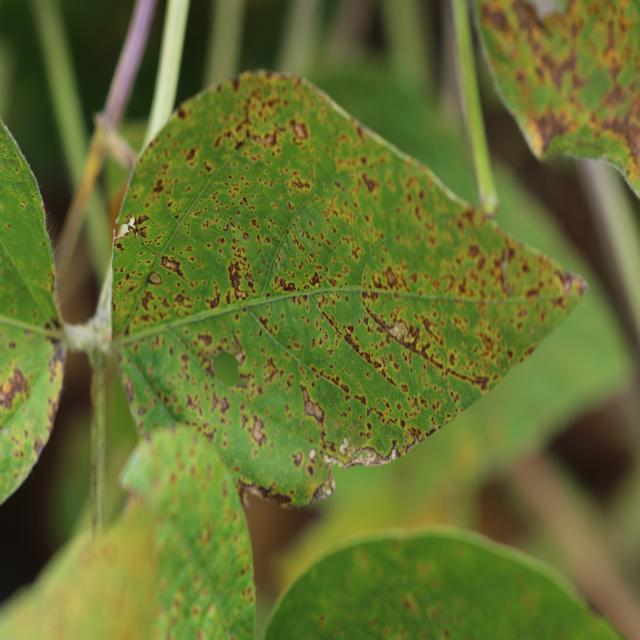Bacterial_Blight: (0, 363, 32, 414), (443, 362, 494, 388), (224, 255, 255, 297), (236, 478, 274, 506), (350, 444, 390, 466), (386, 319, 416, 348), (421, 317, 447, 349), (244, 412, 267, 447), (208, 384, 231, 417), (308, 477, 336, 504), (48, 339, 66, 381), (245, 128, 278, 149), (303, 397, 325, 427), (553, 266, 575, 296), (500, 248, 514, 293), (263, 355, 284, 384), (160, 255, 184, 277), (199, 354, 217, 379), (382, 266, 400, 288), (275, 276, 297, 293), (291, 120, 308, 141), (407, 425, 424, 446), (361, 172, 377, 194), (232, 135, 251, 153), (43, 317, 60, 333), (146, 271, 163, 286), (200, 524, 212, 544), (32, 436, 44, 456), (184, 146, 198, 163), (354, 393, 368, 409), (292, 450, 304, 468), (309, 272, 322, 288), (151, 179, 164, 195), (136, 213, 150, 227), (339, 438, 349, 455), (403, 597, 414, 612), (235, 349, 244, 366), (308, 447, 317, 461), (318, 614, 327, 626), (307, 463, 314, 477), (529, 326, 536, 335), (275, 261, 279, 270), (223, 224, 228, 231), (214, 205, 219, 212), (263, 257, 267, 263)
Soybean: (112, 72, 585, 506)
